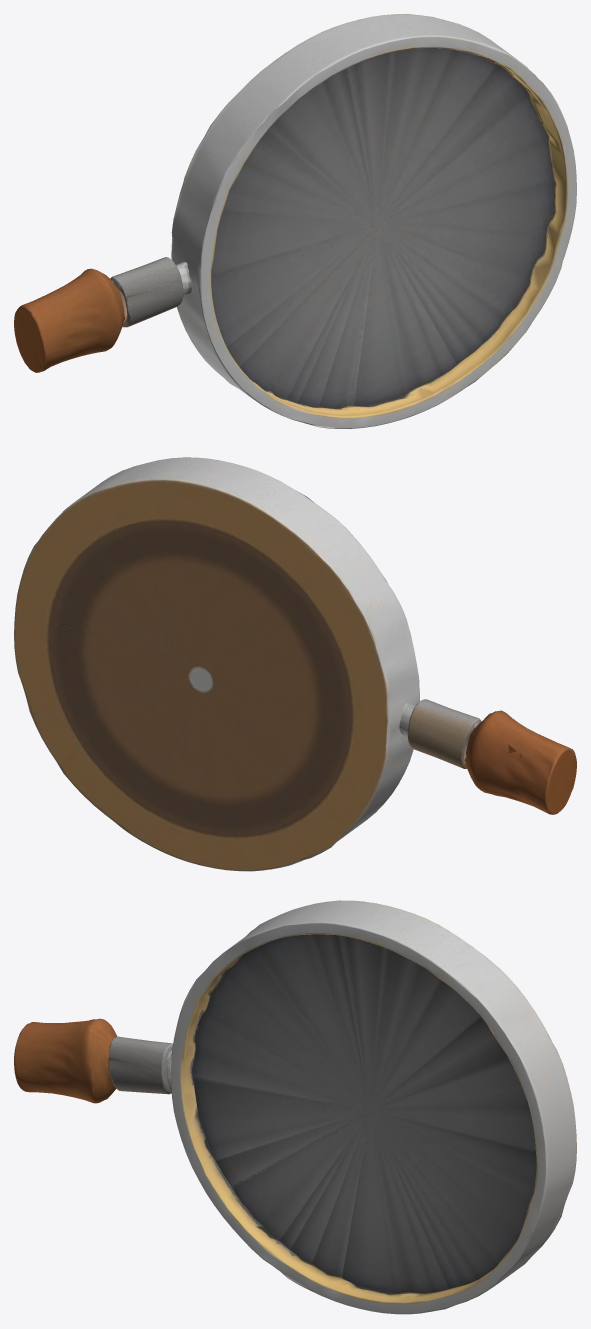
The model's file is magnifier.glb.
3 views of the same model, one above another, from view 1: azimuth 30°, elevation 25°; view 2: azimuth 150°, elevation 25°; view 3: azimuth 330°, elevation 25° (orthographic).
Bounding box in the file's own units: 0.9473 × 0.6445 × 0.0982.
Materials: 1 (1 with a texture image).
